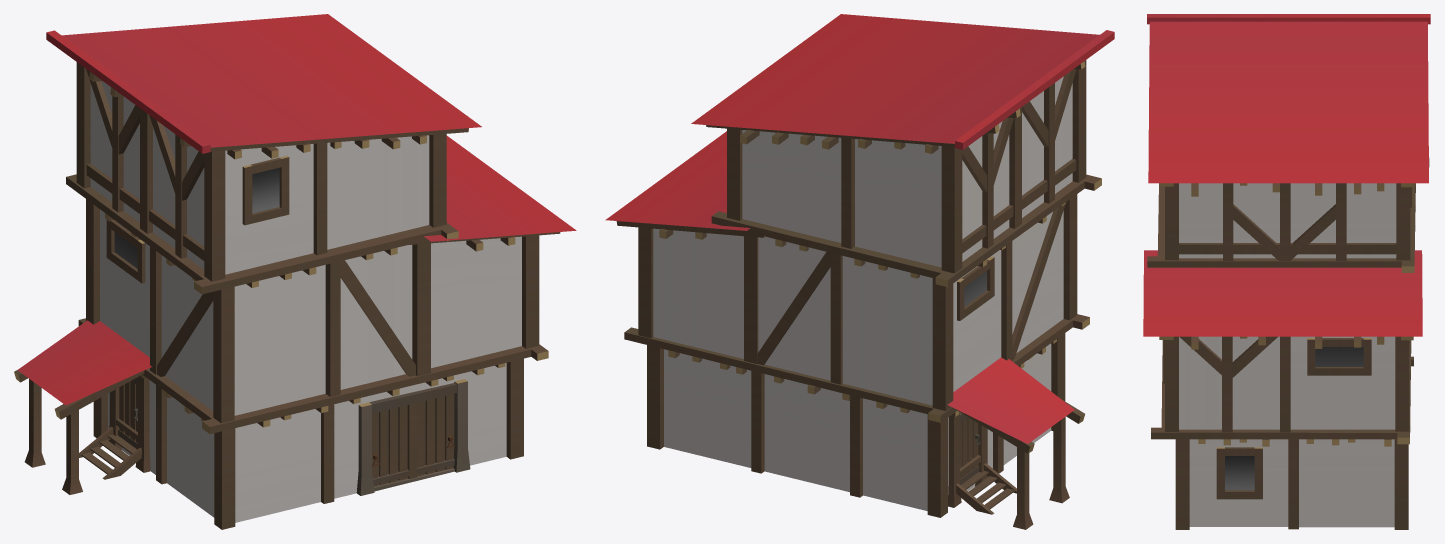
The model's file is House_9_LOD1.fbx.
The picture shows the model from 3 angles, left to right: view 1: azimuth 30°, elevation 25°; view 2: azimuth 150°, elevation 25°; view 3: azimuth 270°, elevation 25°; orthographic projection. The views are drawn at different scales.
Parts seen in each view (by area): view 1: polySurface9618; view 2: polySurface9618; view 3: polySurface9618.
Part boxes in pixels (bbox=[...]): polySurface9618: bbox=[14, 14, 576, 529]; polySurface9618: bbox=[605, 14, 1114, 529]; polySurface9618: bbox=[1143, 14, 1430, 529].
Size of the model in its own units: 1114 by 1001 by 711.
